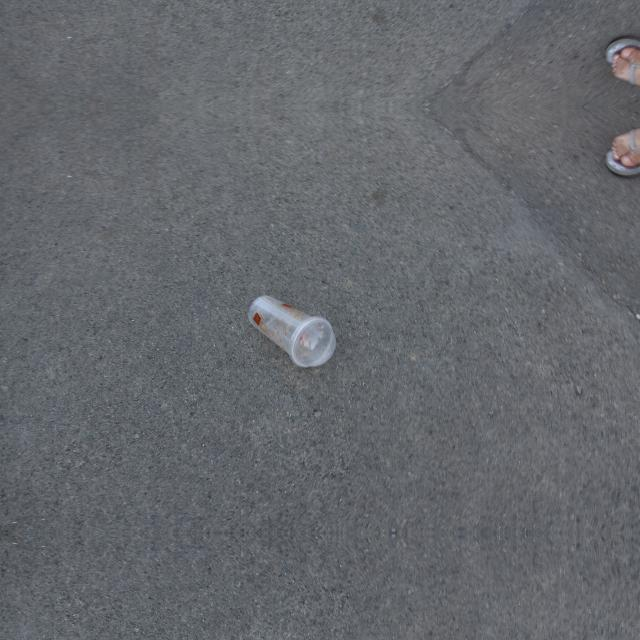Plastic: (248, 294, 336, 368)
